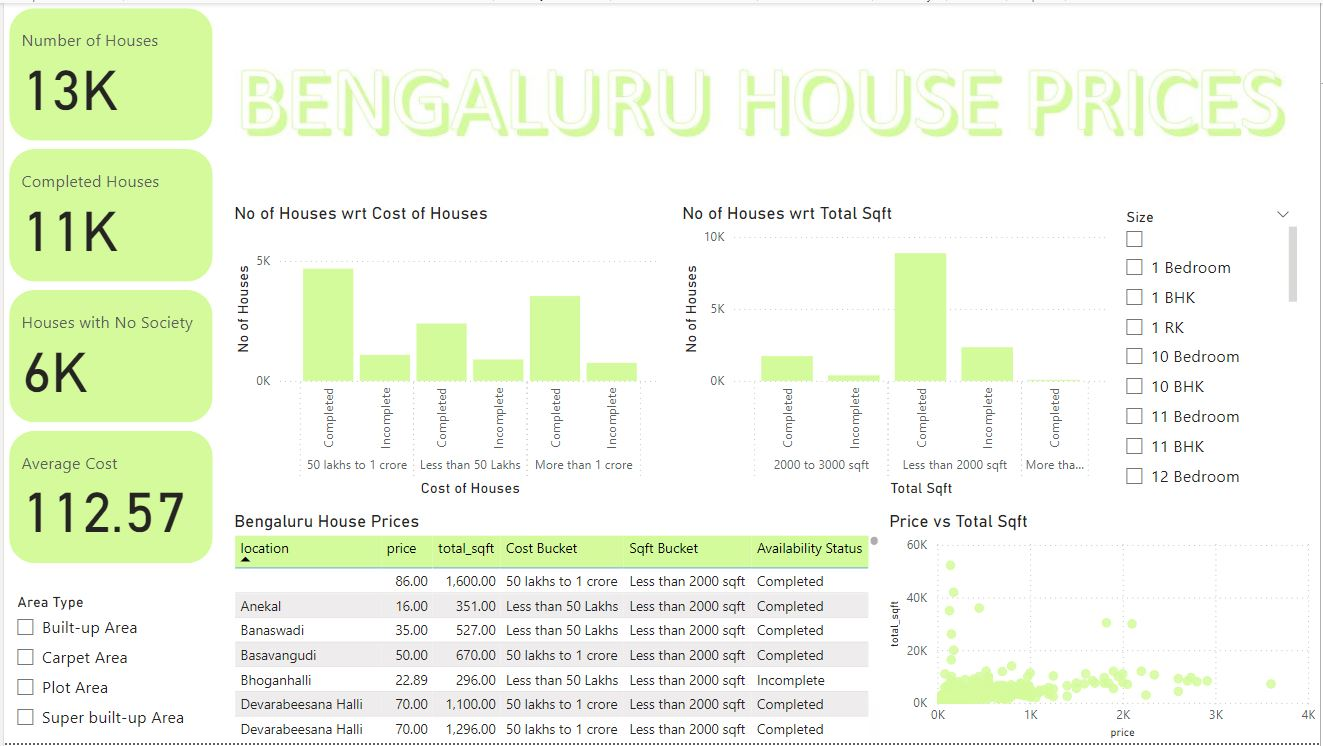

What the dashboard file says about the page in this screenshot:
{"tool":"powerbi","page":{"name":"Page 1","canvas":[1280,720],"ordinal":0},"visuals":[{"type":"cardVisual","fields":{"Data":["bengaluru_house_prices.Number of Houses","bengaluru_house_prices.Completed Houses","bengaluru_house_prices.No Society","bengaluru_house_prices.Avg Cost"]},"box":[0,0,208.9,552.2],"z":0},{"type":"clusteredColumnChart","title":"No of Houses wrt Cost of Houses","fields":{"Category":["bengaluru_house_prices.Cost Bucket","bengaluru_house_prices.Availability Status"],"Y":["CountNonNull(bengaluru_house_prices.location)"]},"box":[218.9,194.4,424.4,290],"z":1000},{"type":"clusteredColumnChart","title":"No of Houses wrt Total Sqft","fields":{"Category":["bengaluru_house_prices.Sqft Bucket","bengaluru_house_prices.Availability Status"],"Y":["CountNonNull(bengaluru_house_prices.location)"]},"box":[654.4,194.4,424.4,290],"z":2000},{"type":"slicer","title":"Ae","fields":{"Values":["bengaluru_house_prices.area_type"]},"box":[0,568.9,268.9,151.1],"z":3000},{"type":"scatterChart","title":"Price vs Total Sqft","fields":{"X":["bengaluru_house_prices.price"],"Y":["bengaluru_house_prices.total_sqft"]},"box":[855.6,494.4,424.4,225.6],"z":4000},{"type":"tableEx","title":"Bengaluru House Prices","fields":{"Values":["bengaluru_house_prices.location","bengaluru_house_prices.price","bengaluru_house_prices.total_sqft","bengaluru_house_prices.Cost Bucket","bengaluru_house_prices.Sqft Bucket","bengaluru_house_prices.Availability Status"]},"box":[218.9,494.4,636.7,225.6],"z":5000},{"type":"slicer","fields":{"Values":["bengaluru_house_prices.size"]},"box":[1078.9,194.4,184.4,290],"z":5001},{"type":"image","box":[218.9,0,1044.4,194.4],"z":5002}]}

Visuals, with their boxes in screenshot pixels (x1, y1, x2, y2), scaled from the page's 1280x720 canvas onto the 1323x746 screenshot:
cardVisual - bengaluru_house_prices.Number of Houses x bengaluru_house_prices.Completed Houses: x1=0, y1=0, x2=216, y2=572
"No of Houses wrt Cost of Houses" clusteredColumnChart: x1=226, y1=201, x2=665, y2=502
"No of Houses wrt Total Sqft" clusteredColumnChart: x1=676, y1=201, x2=1115, y2=502
"Ae" slicer: x1=0, y1=589, x2=278, y2=745
"Price vs Total Sqft" scatterChart: x1=884, y1=512, x2=1322, y2=745
"Bengaluru House Prices" tableEx: x1=226, y1=512, x2=884, y2=745
slicer - bengaluru_house_prices.size: x1=1115, y1=201, x2=1306, y2=502
image: x1=226, y1=0, x2=1306, y2=201
